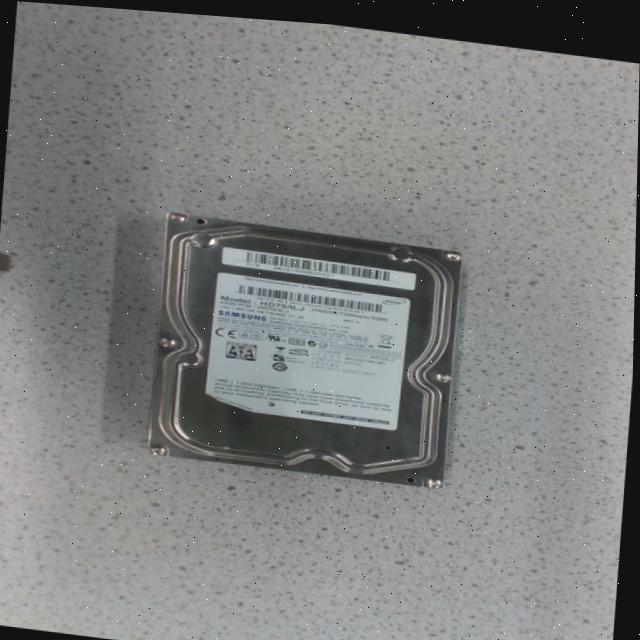label: (207, 270, 409, 423), (223, 244, 414, 283)
lid: (150, 211, 463, 481)
screw: (160, 334, 180, 346), (425, 471, 444, 481), (444, 244, 462, 254), (151, 442, 169, 452), (170, 210, 186, 219), (437, 367, 452, 375)
